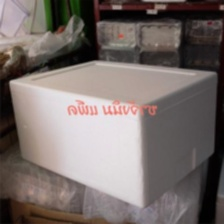foam_box: (6, 57, 221, 210)
